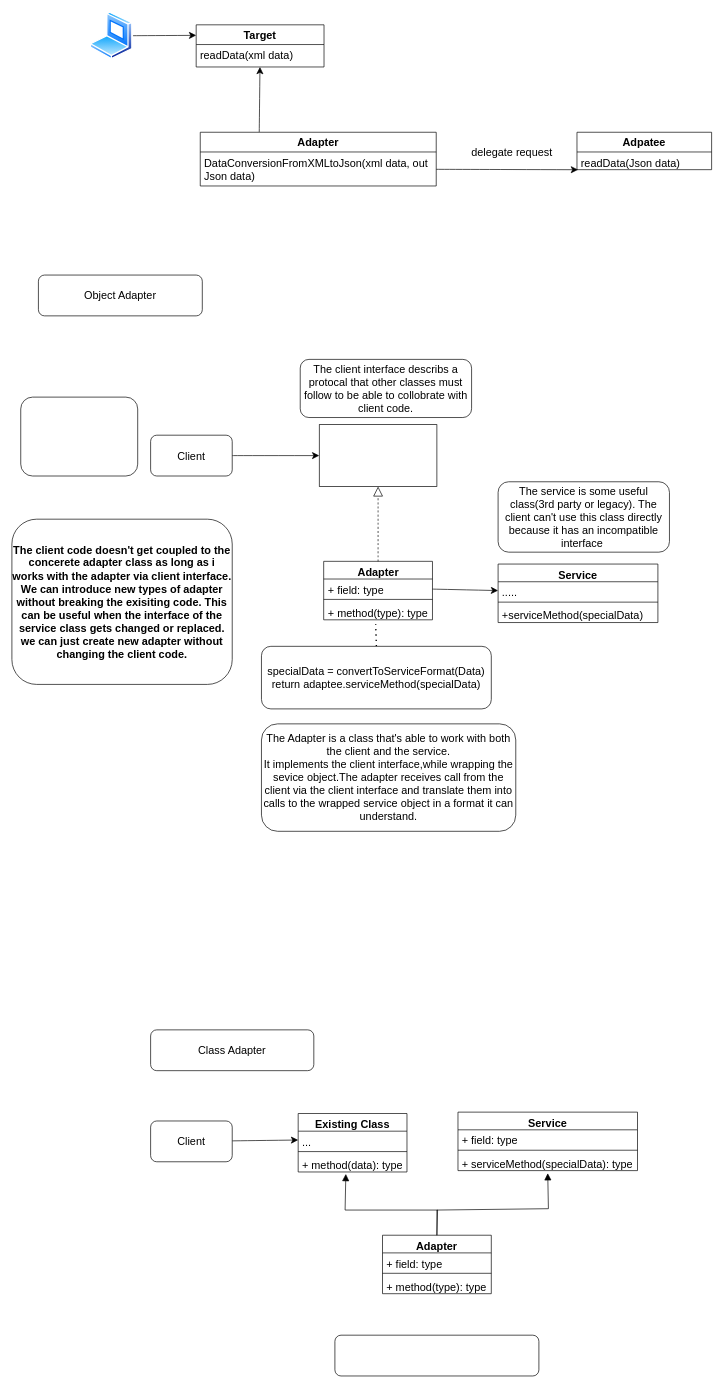
Image size: 724x1388. Some labels were removed from this diagram. Here are the shapes that lost their labels. From the top down, the centre of each, then its label:
At pixel 79 436: "The client is a class that contians the exisiting business logic of the program".
At pixel 378 455: "«interface» Client Interface +method(data)".
At pixel 436 1355: "speicalData = convertToService(data) return serviceMethod(specialData)".
